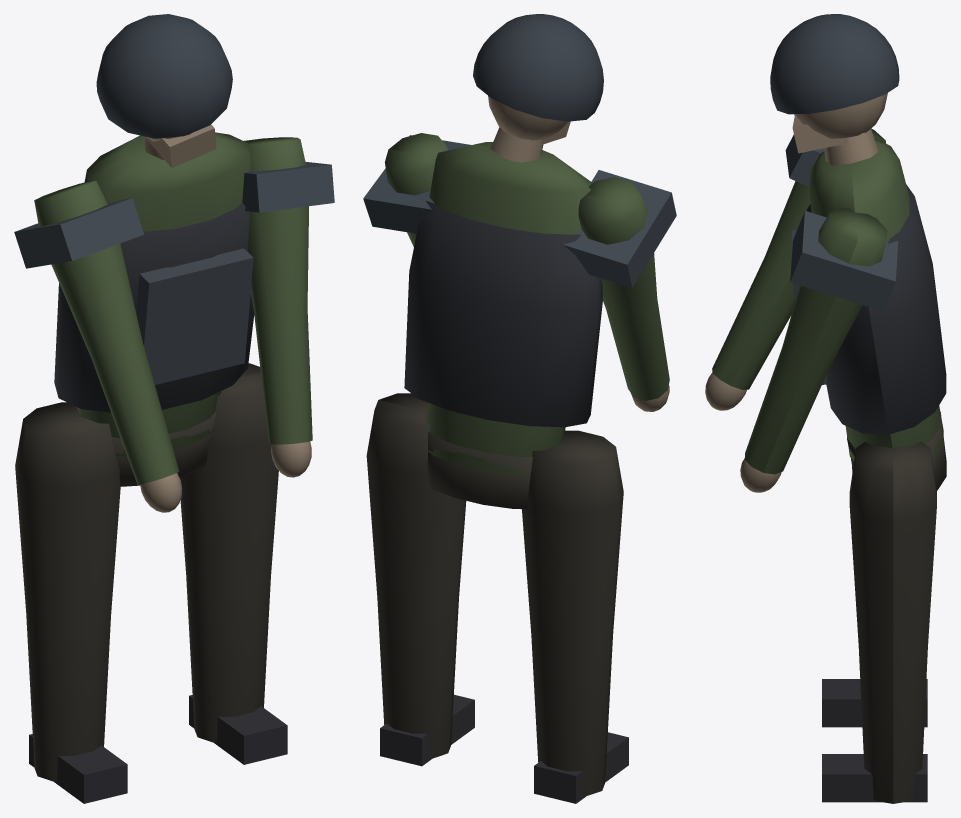
Rendered from husk_armored.glb.
The picture shows the model from 3 angles, left to right: view 1: azimuth 30°, elevation 25°; view 2: azimuth 150°, elevation 25°; view 3: azimuth 270°, elevation 25°; orthographic projection. The views are drawn at different scales.
Parts seen in each view (by area): view 1: husk_armored; view 2: husk_armored; view 3: husk_armored.
Part boxes in pixels (x1=…): husk_armored: x1=14, y1=14, x2=334, y2=803; husk_armored: x1=363, y1=14, x2=676, y2=803; husk_armored: x1=705, y1=14, x2=946, y2=803.
Size of what is drawn, in the model's own units: 0.7312 by 1.95 by 0.5858.
